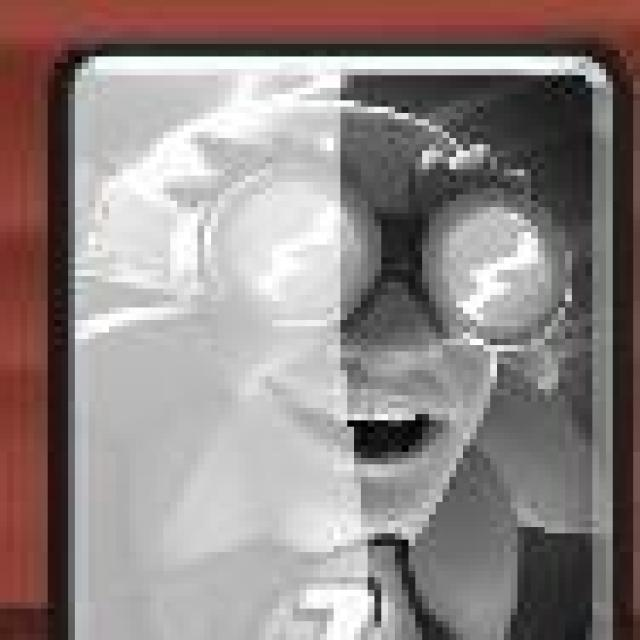Electro_Giant: (40, 29, 632, 640)
